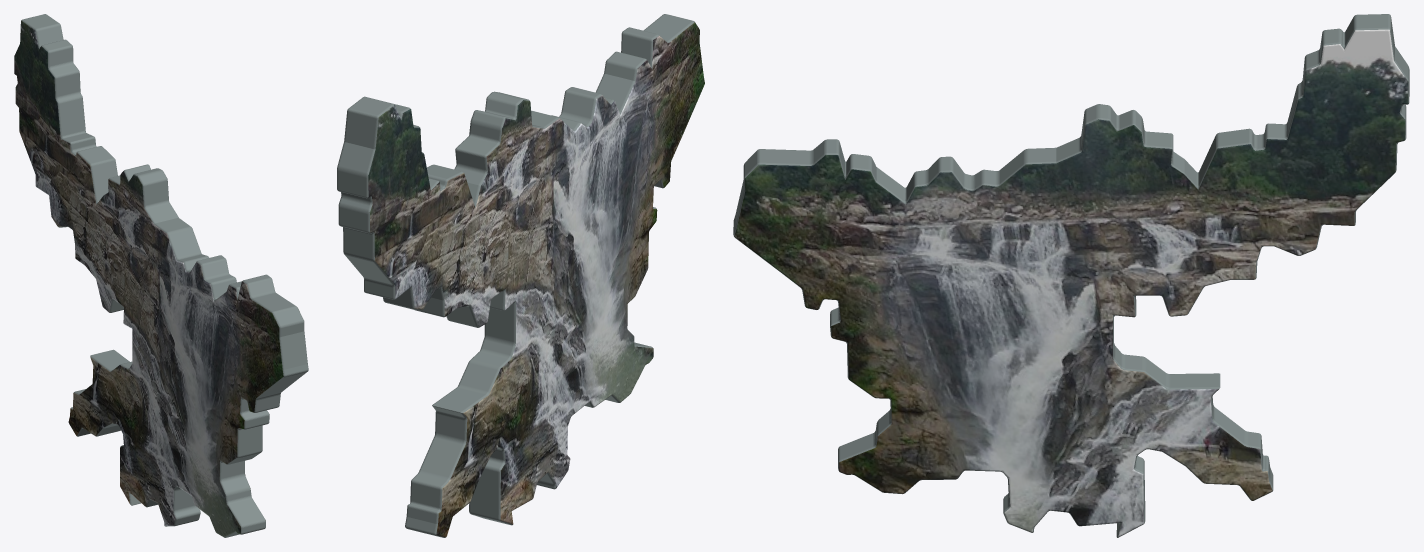
Rendered from Jharkhand.glb.
3 renders of one model, left to right at view 1: azimuth 30°, elevation 25°; view 2: azimuth 150°, elevation 25°; view 3: azimuth 270°, elevation 25°, orthographic. The views are drawn at different scales.
Parts seen in each view (by area): view 1: Object_30; view 2: Object_30; view 3: Object_30.
Boxes of the visible parts, x1=… form: Object_30: x1=14, y1=14, x2=308, y2=537; Object_30: x1=337, y1=14, x2=704, y2=537; Object_30: x1=733, y1=14, x2=1409, y2=537.
Bounding box in the file's own units: 0.0401 × 0.5482 × 0.6587.
Materials: 1 (1 with a texture image).
